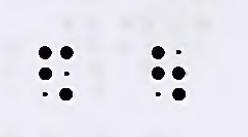one_cell_non_alphabet_naging: (38, 45, 74, 101)
one_cell_non_alphabet_tunay: (151, 46, 186, 101)
